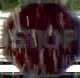Stop: (1, 0, 79, 77)
